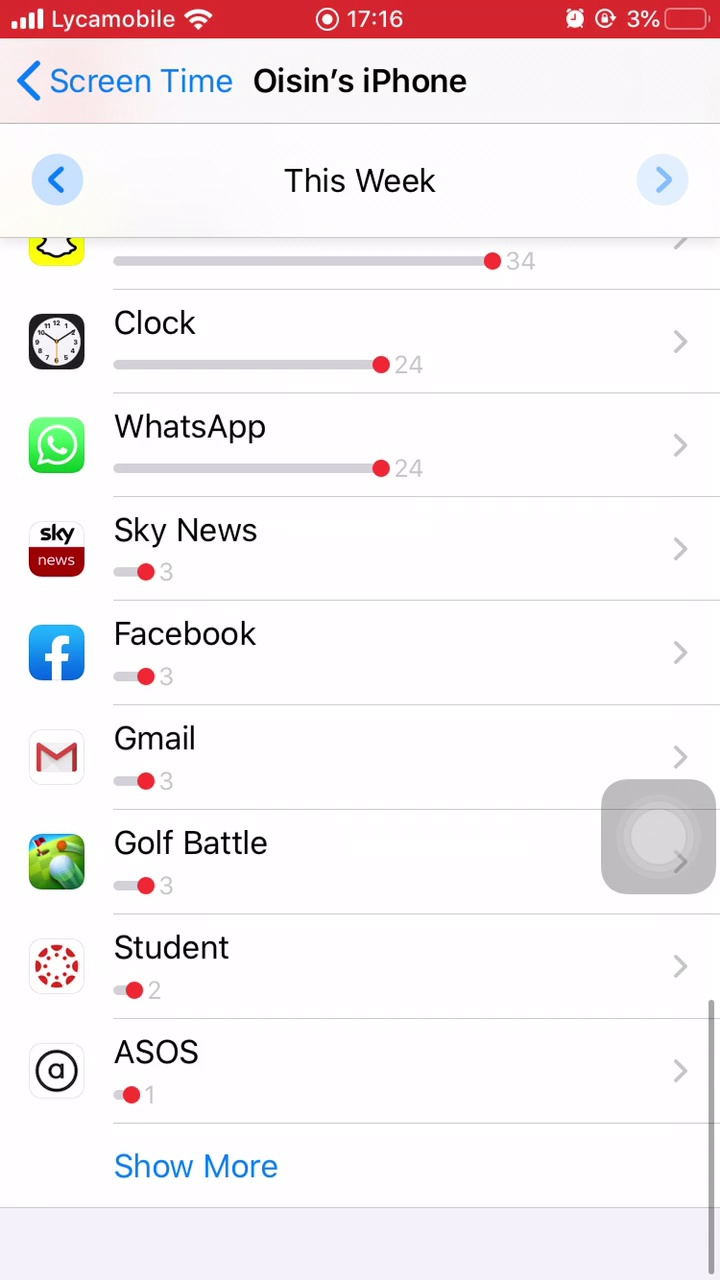not_app: (15, 294, 481, 399), (15, 400, 489, 497), (14, 1021, 367, 1124), (14, 914, 362, 1017), (14, 813, 348, 913), (14, 610, 362, 705), (18, 503, 343, 602), (15, 708, 326, 808)
week: (273, 152, 475, 209)
